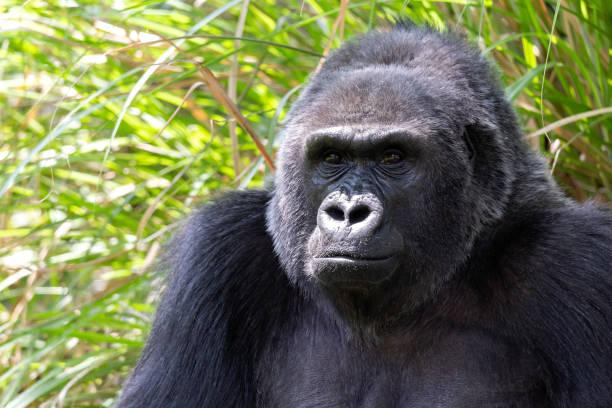goriile_montagne: (138, 5, 612, 408)
